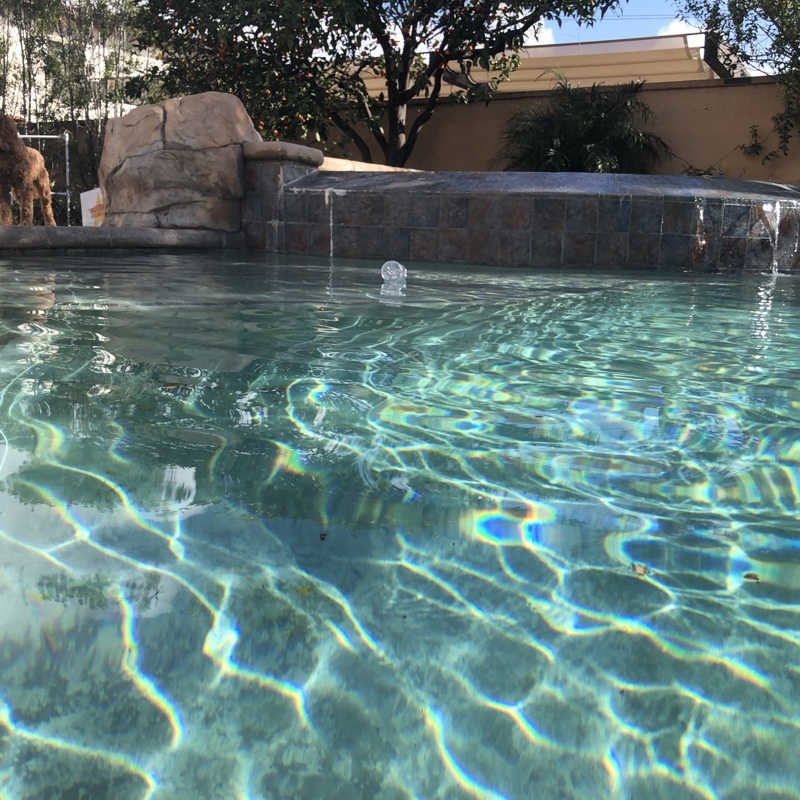Plastic Bottle: (375, 256, 411, 289)
